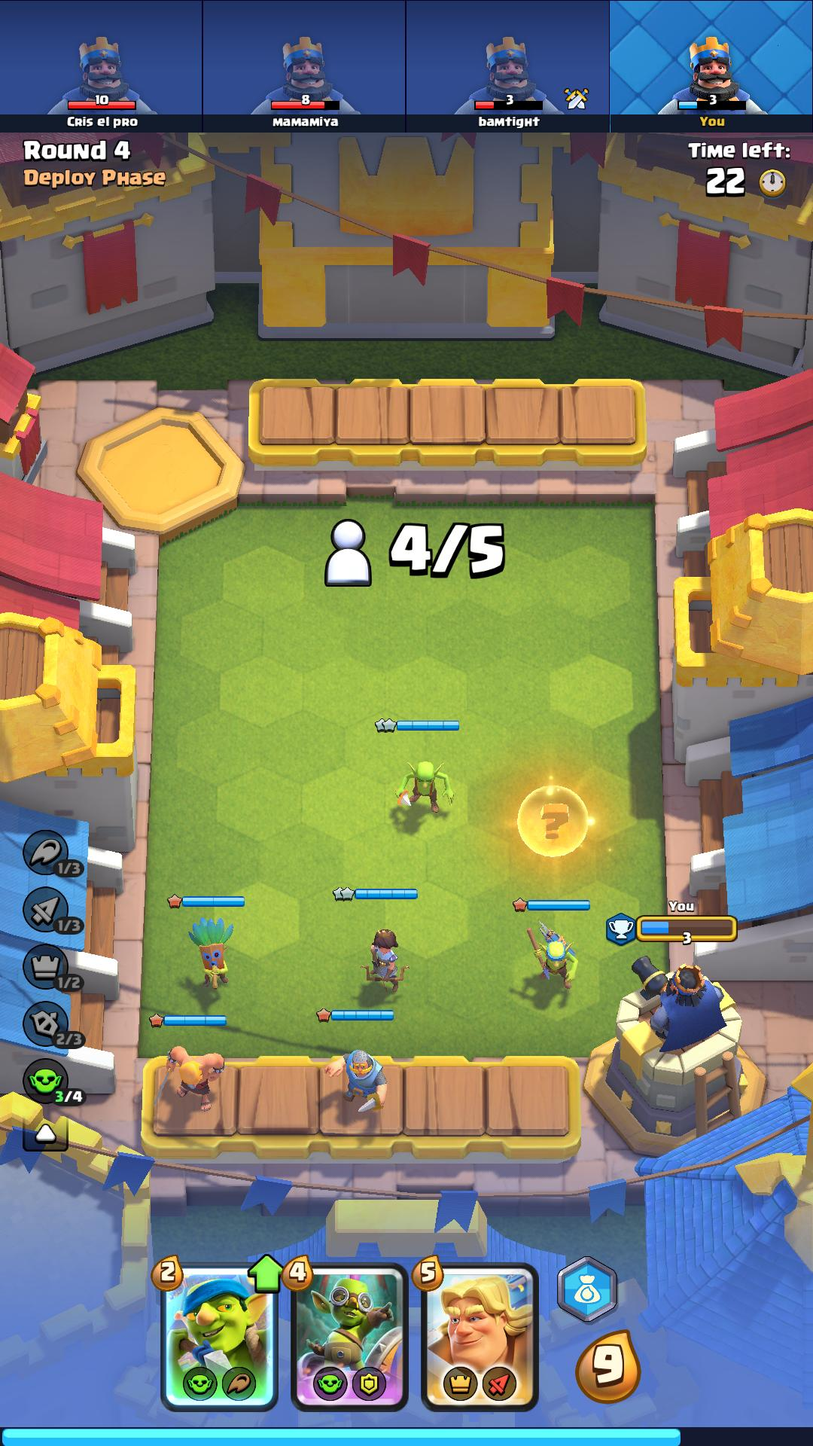barbarian: (147, 1040, 235, 1112)
dart: (182, 914, 240, 993)
goblin: (387, 753, 456, 824)
hand-golden: (423, 1264, 535, 1405)
hand-machine: (293, 1266, 401, 1406)
hand-spear: (165, 1273, 271, 1405)
knight: (319, 1041, 392, 1117)
orb: (514, 781, 587, 863)
princess: (356, 921, 410, 990)
spear: (519, 918, 584, 992)
upgrade: (246, 1250, 288, 1292)
